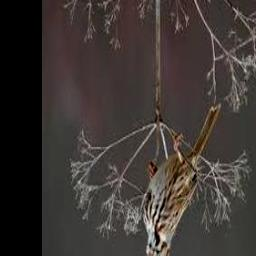Sparrow: (142, 103, 221, 256)
